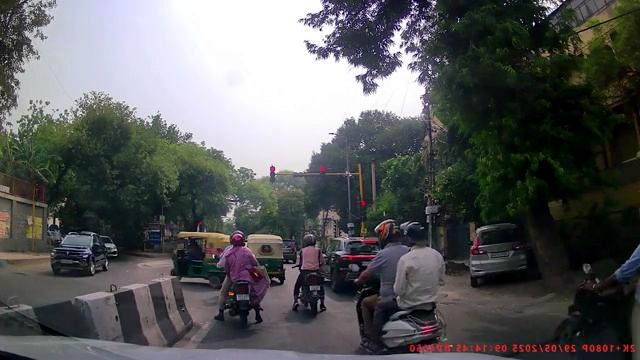motorcycle_with_helmet: (290, 232, 328, 317)
passenger_with_helmet: (354, 217, 448, 353), (214, 229, 269, 328)
